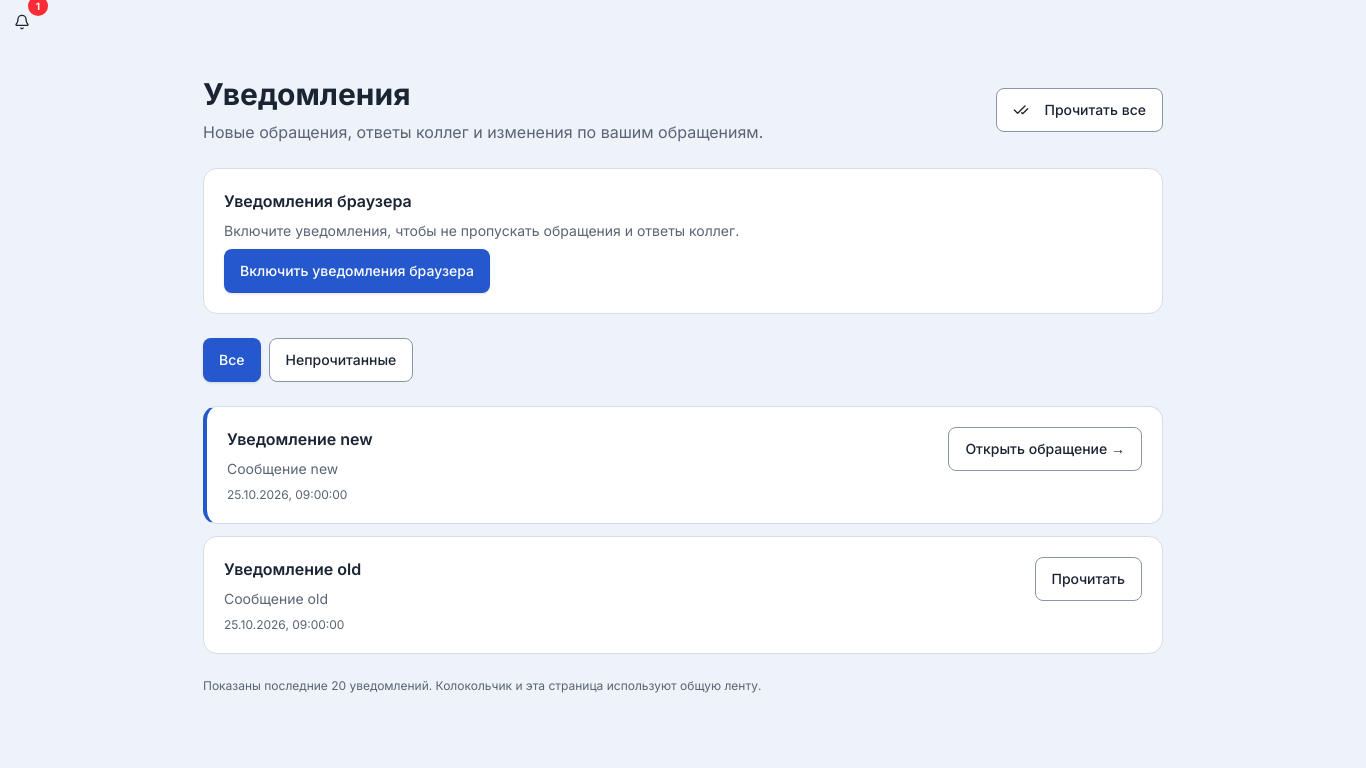
Test: actual notification center › shares the actor list cache and refreshes current task state when the bell opens
The image size is (1366, 768).
Check: the heading "Уведомление new" is shown, box [227,429,373,449]
Click the button named "Уведомления". click: (22, 22)
box: [0,0,44,44]
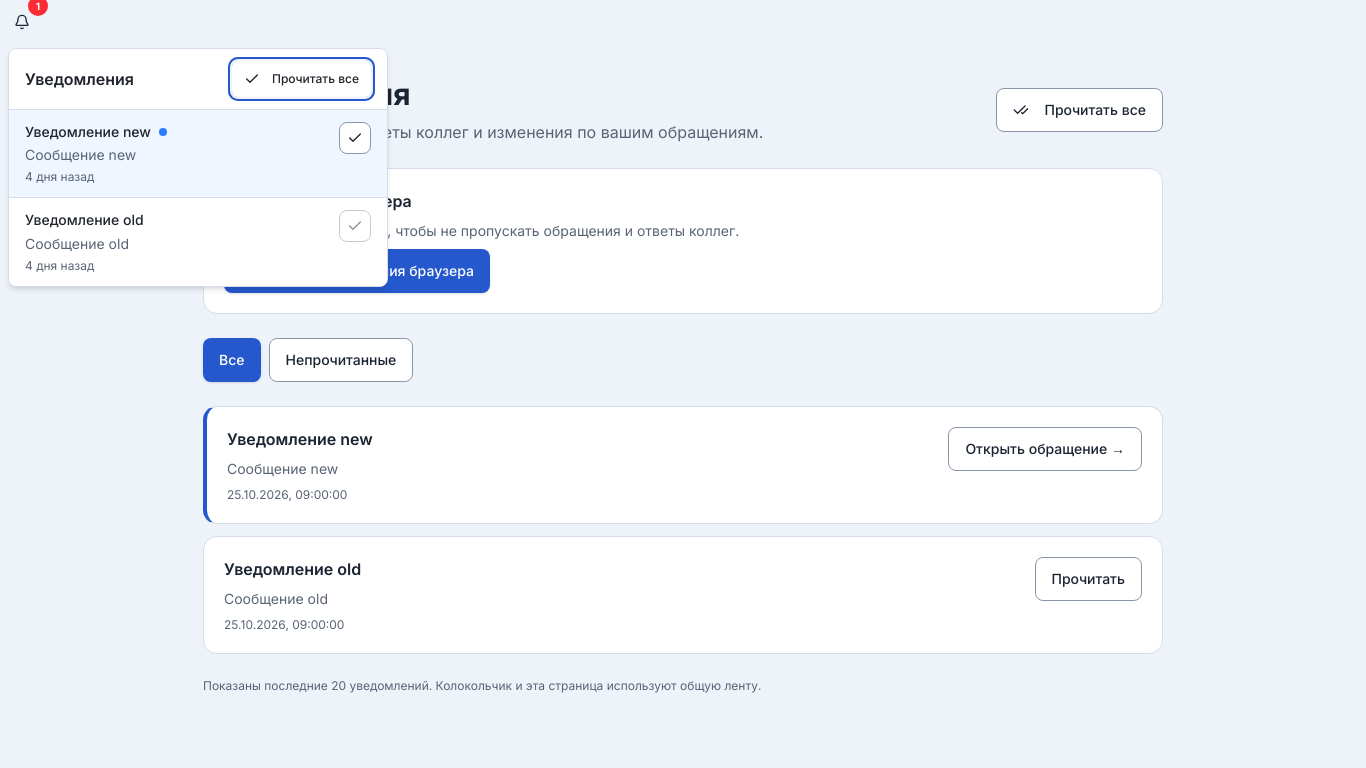
Check: the text "Уведомление new" is shown, box [25,122,151,141]
